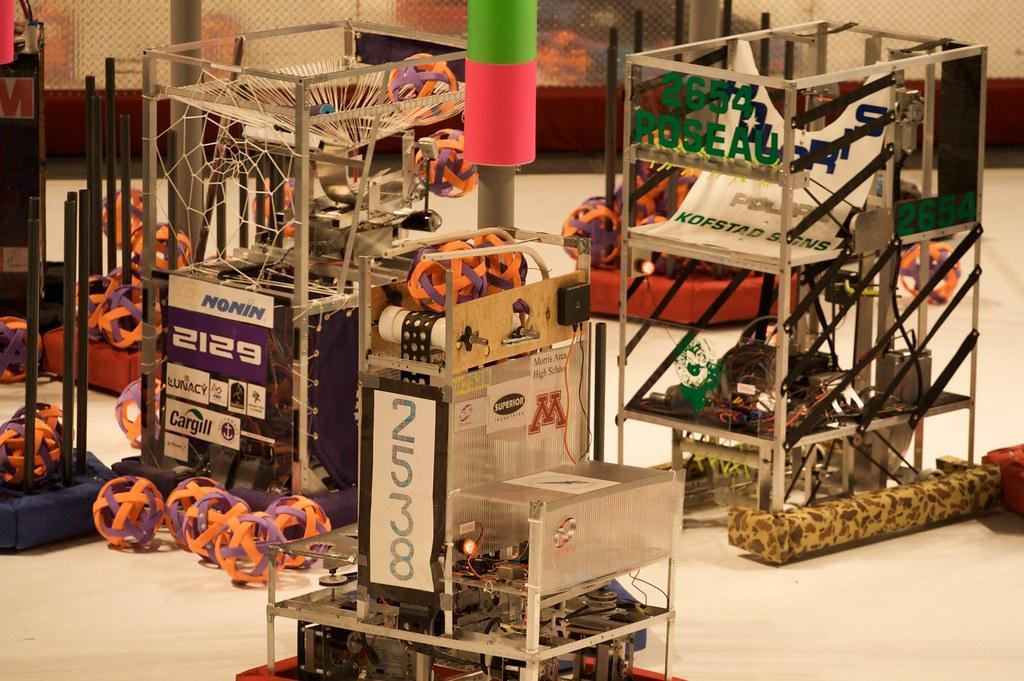robot: (599, 13, 1009, 557), (119, 9, 520, 551), (237, 222, 710, 681)
